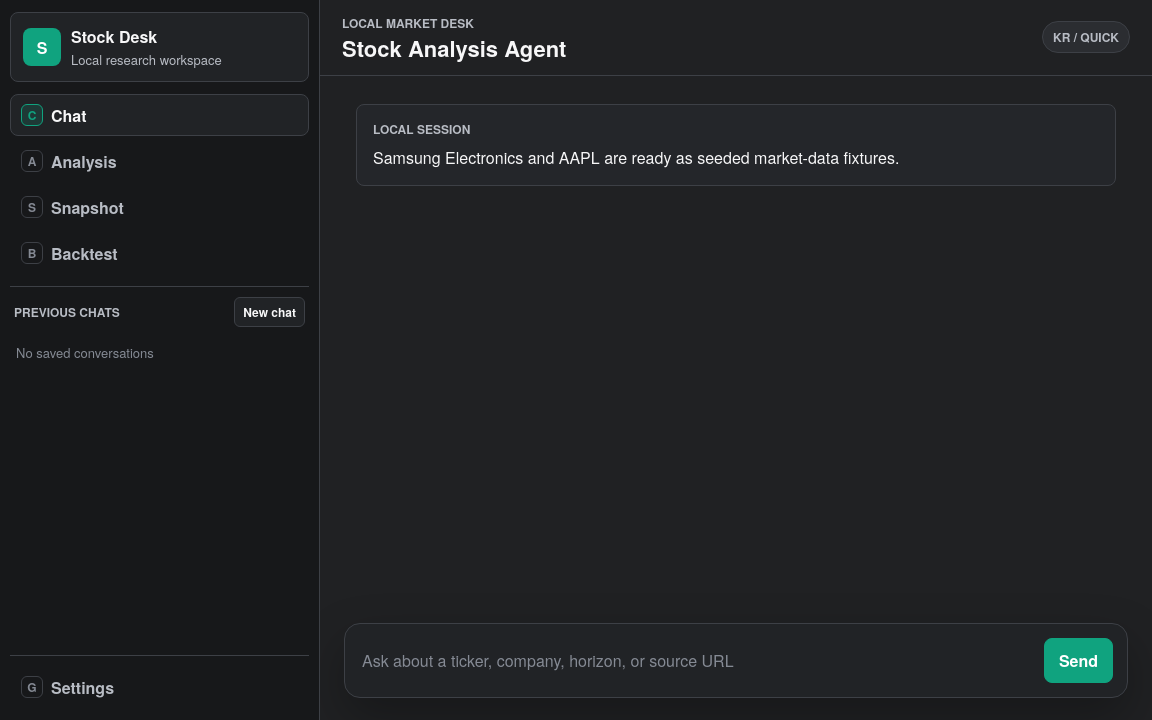
Scenario: App › surfaces settings save failures
Expected: the heading "Stock Analysis Agent" is shown, [342, 36, 566, 61]
Click the button "A Analysis": (84, 161) [10, 140, 309, 182]
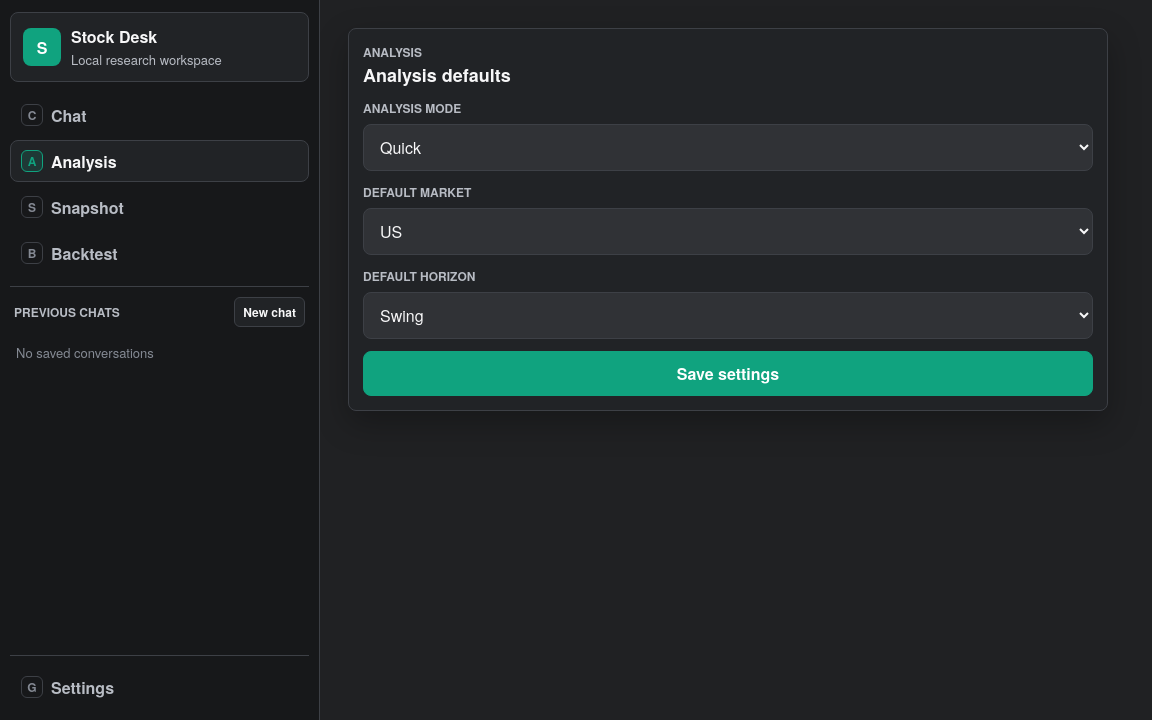
Expected: the dropdown showing "US" is shown, [363, 208, 1093, 255]
Click the button "Save settings": (728, 374) [363, 351, 1093, 396]
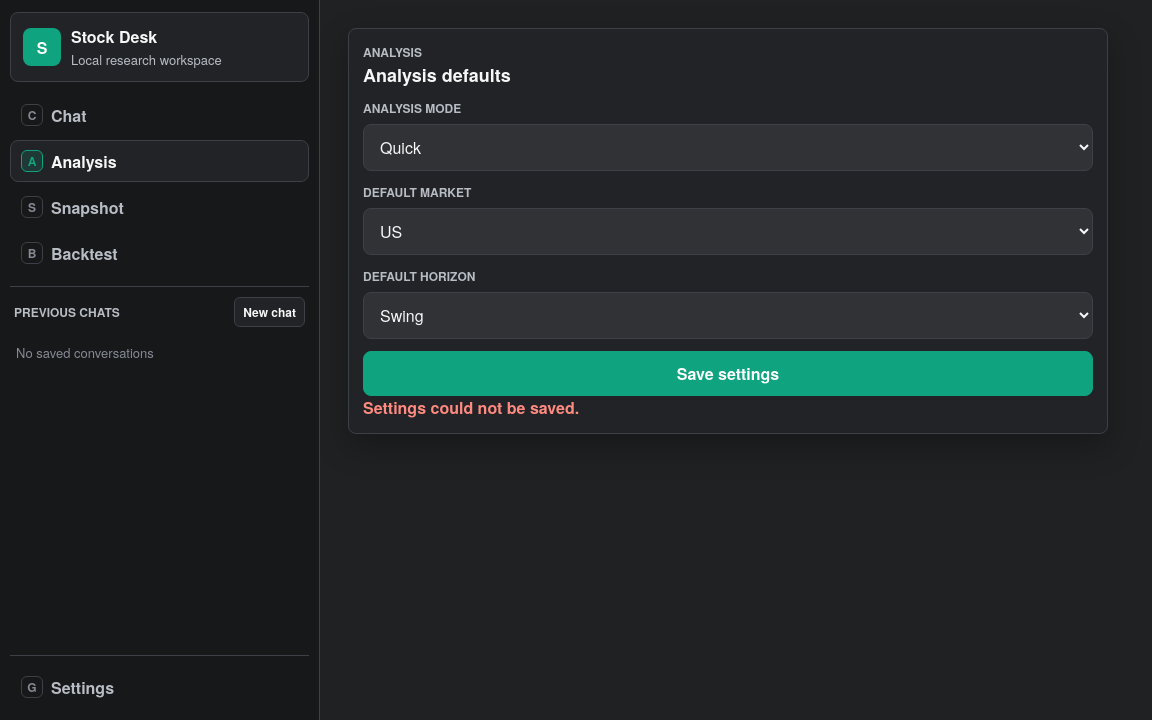
Expected: the text "Settings could not be saved." is shown, [363, 396, 579, 419]
